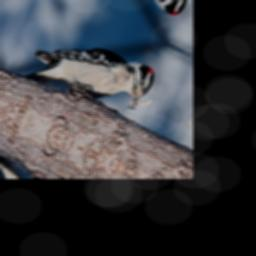Woodpecker: (25, 18, 159, 128)
